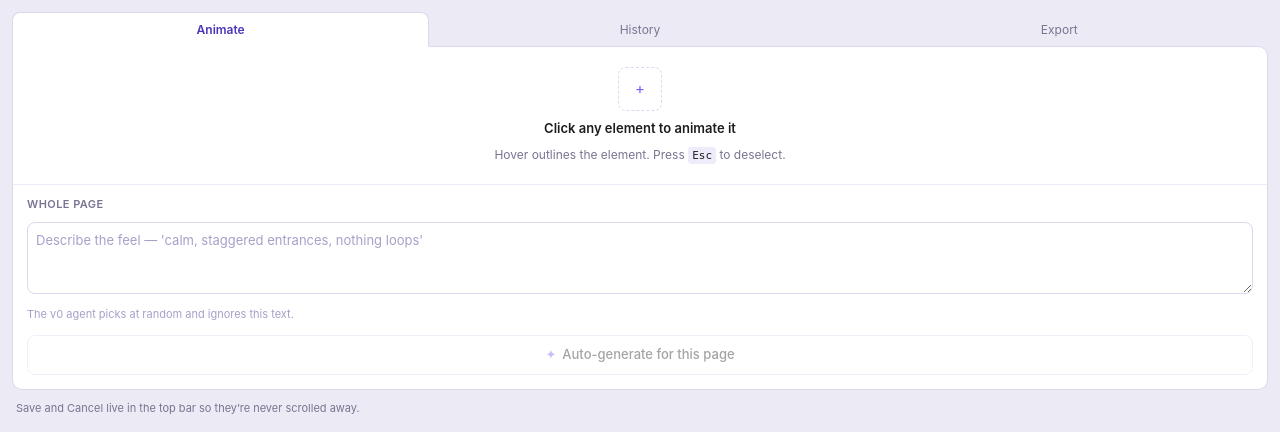
Test: ControlPanel · History and viewing › keeps the placeholder when there is no project behind the panel
The width and height of the screenshot is (1280, 432).
Click the tab "History": (640, 30) [431,12,849,47]
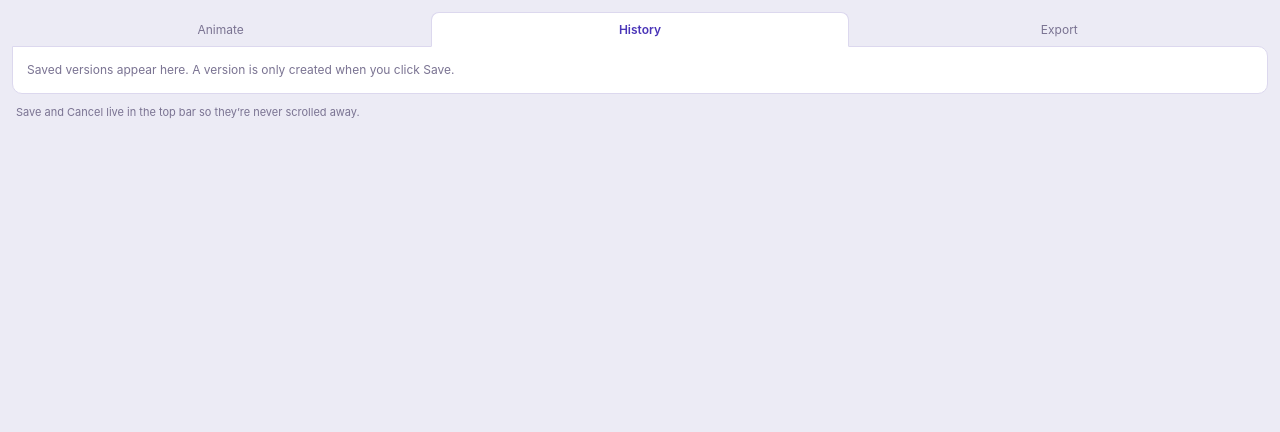
Expected: the text "only created when you click Save" is shown, [27,62,454,77]
